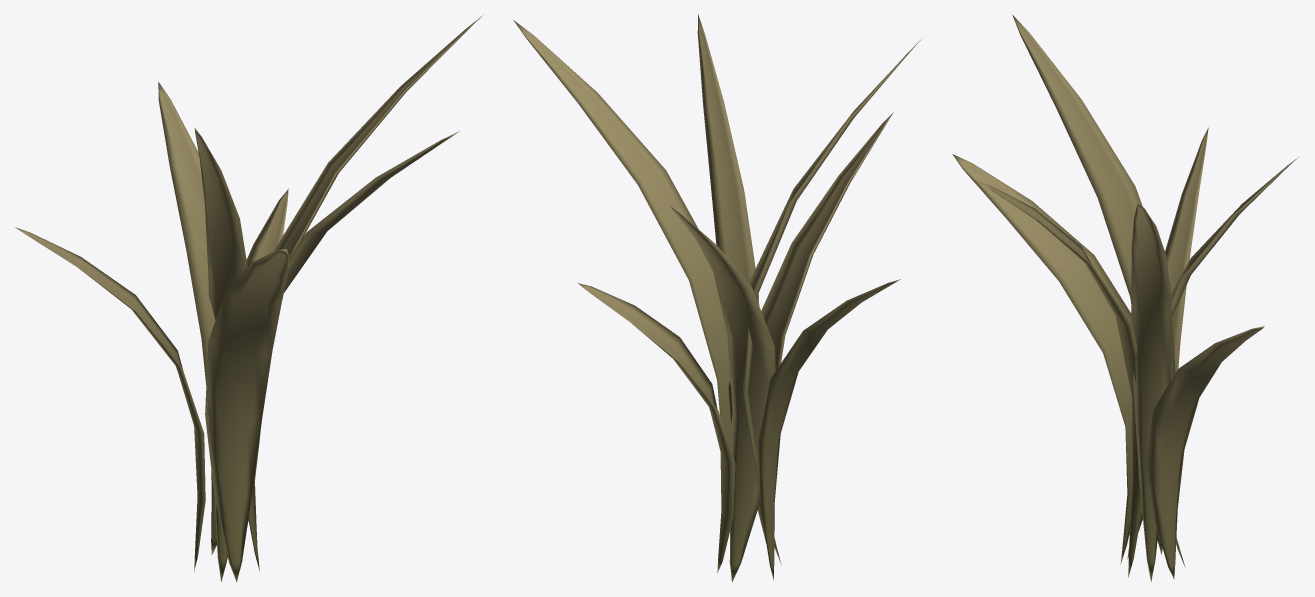
The model's file is dry-tuft-3.glb.
The picture shows the model from 3 angles, left to right: view 1: azimuth 30°, elevation 25°; view 2: azimuth 150°, elevation 25°; view 3: azimuth 270°, elevation 25°; orthographic projection. The views are drawn at different scales.
Parts seen in each view (by area): view 1: DryTuft3; view 2: DryTuft3; view 3: DryTuft3.
Boxes of the visible parts, <box> form: DryTuft3: <box>15,15,482,582</box>; DryTuft3: <box>513,14,922,582</box>; DryTuft3: <box>952,15,1299,582</box>.
Size of the model in its own units: 0.6579 by 0.7534 by 0.4716.
